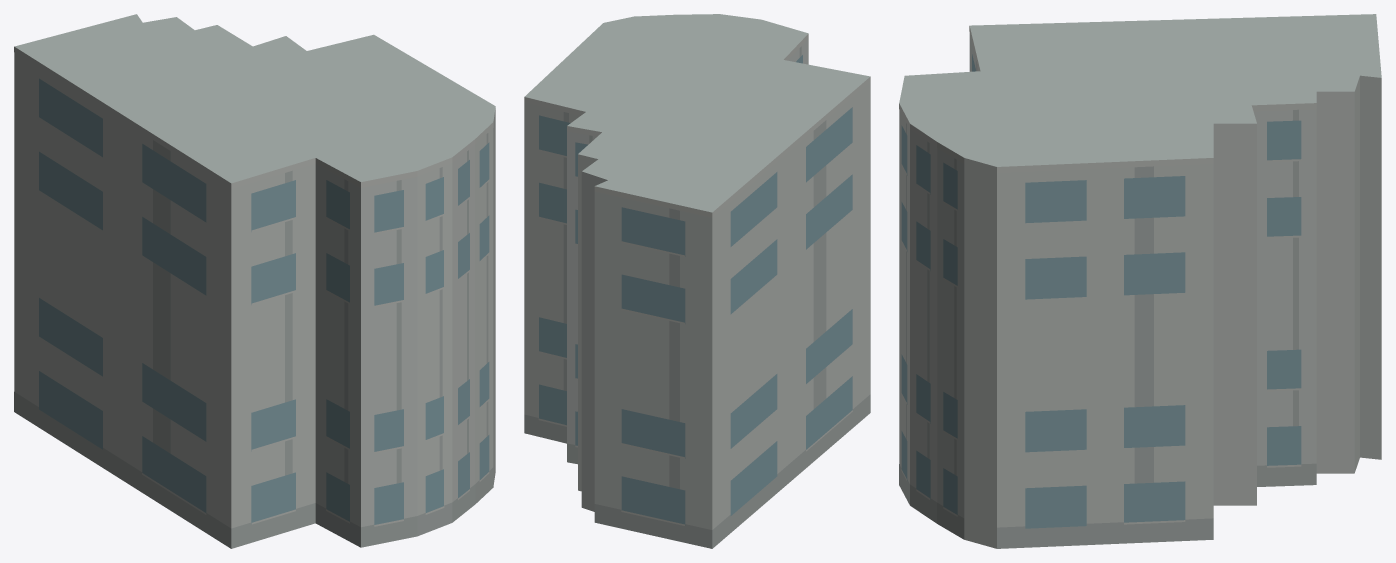
Rendered from survey-upis-32780375.glb.
The picture shows the model from 3 angles, left to right: view 1: azimuth 30°, elevation 25°; view 2: azimuth 150°, elevation 25°; view 3: azimuth 270°, elevation 25°; orthographic projection. The views are drawn at different scales.
Visible parts, largest first — view 1: survey-upis-32780375.tmp; view 2: survey-upis-32780375.tmp; view 3: survey-upis-32780375.tmp.
Part boxes in pixels (x1,y1,x2,y2): survey-upis-32780375.tmp: (14,14,495,548); survey-upis-32780375.tmp: (524,14,870,548); survey-upis-32780375.tmp: (899,14,1381,548).
Size of the model in its own units: 13.11 by 15.25 by 17.47.
